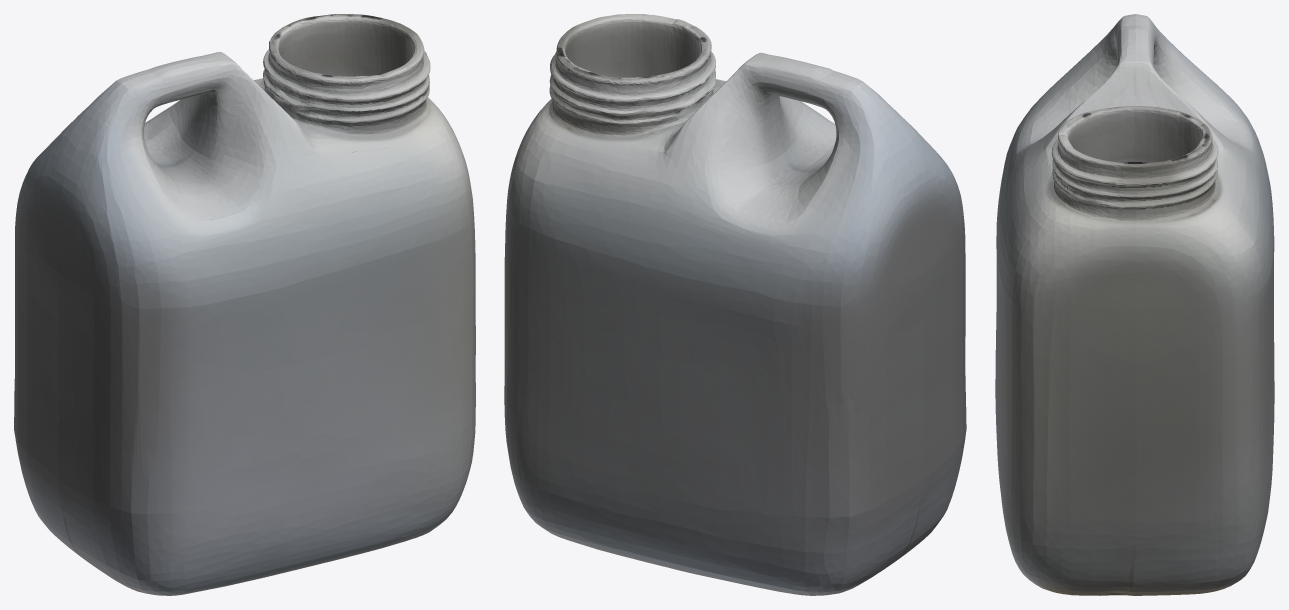
The model's file is can.fbx.
3 views of the same model, side by side, from view 1: azimuth 30°, elevation 25°; view 2: azimuth 150°, elevation 25°; view 3: azimuth 270°, elevation 25° (orthographic). The views are drawn at different scales.
Visible parts, largest first — view 1: geometry_0; view 2: geometry_0; view 3: geometry_0.
Part boxes in pixels (left/top/right/bottom): geometry_0: left=14, top=14, right=475, bottom=595; geometry_0: left=504, top=14, right=966, bottom=595; geometry_0: left=995, top=14, right=1274, bottom=595.
Bounding box in the file's own units: 0.8163 × 0.9968 × 0.5498.
Materials: 1 (1 with a texture image).
